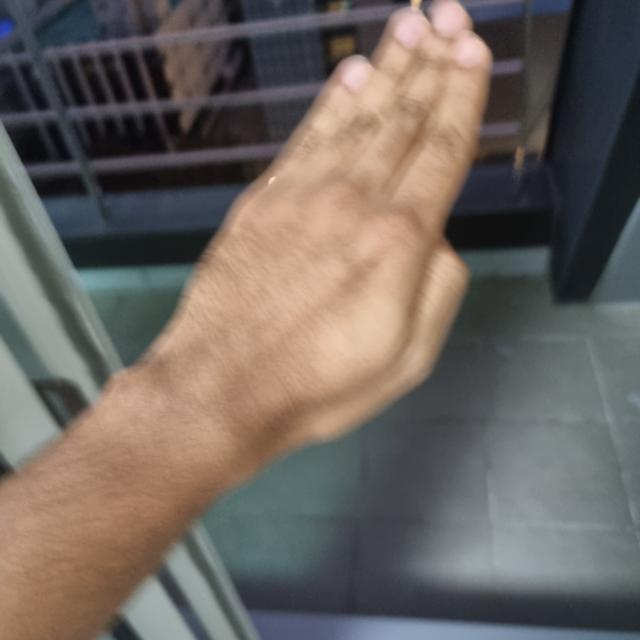Paper: (152, 1, 490, 449)
